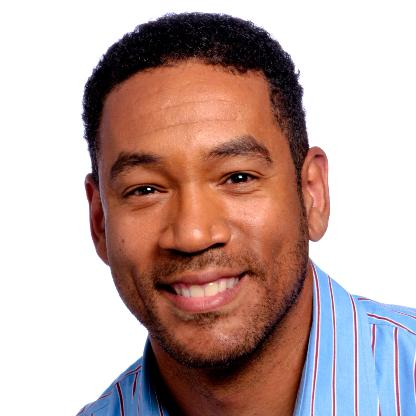Male: (85, 63, 331, 364)
